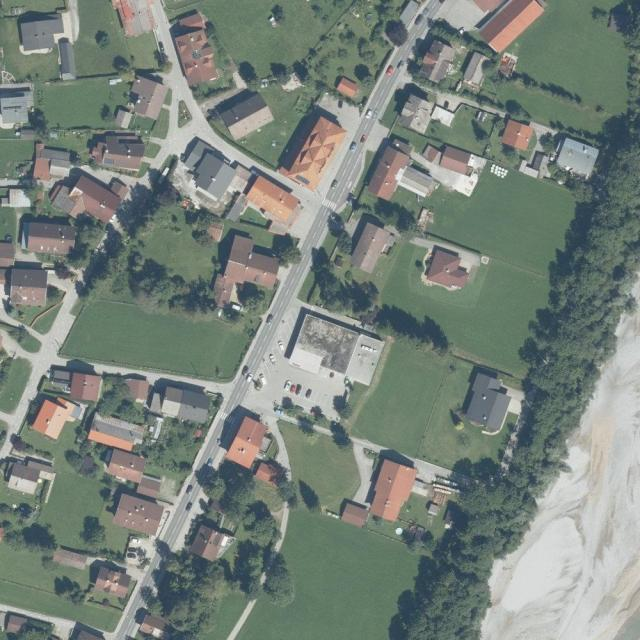building: (273, 102, 351, 193), (365, 138, 446, 217), (451, 367, 524, 440), (169, 134, 243, 204), (236, 173, 306, 240), (292, 314, 360, 374), (86, 125, 162, 178), (169, 11, 221, 87), (477, 0, 546, 55), (365, 458, 418, 525), (224, 236, 282, 290), (32, 391, 88, 446), (219, 91, 275, 142), (67, 174, 123, 224), (348, 221, 397, 277), (4, 451, 58, 501), (87, 412, 147, 456), (224, 416, 271, 470), (16, 8, 66, 55), (112, 493, 164, 537), (425, 249, 474, 295), (344, 333, 385, 386), (123, 75, 169, 122), (188, 522, 235, 567), (553, 137, 601, 180), (416, 39, 458, 86), (21, 220, 76, 255), (396, 93, 437, 135), (112, 0, 156, 38), (33, 143, 73, 183), (0, 82, 34, 128), (105, 448, 147, 485), (177, 389, 213, 426), (5, 462, 43, 497), (94, 565, 132, 598), (500, 119, 534, 151), (119, 373, 153, 405), (69, 373, 104, 404), (461, 52, 491, 88), (209, 273, 236, 309), (438, 146, 471, 175), (56, 36, 76, 81), (159, 386, 185, 419), (341, 500, 370, 528), (254, 460, 284, 487), (52, 547, 87, 569), (229, 164, 254, 194), (136, 474, 162, 498), (335, 76, 360, 100), (429, 104, 455, 127), (420, 144, 444, 166), (6, 615, 28, 636), (114, 108, 133, 130)
greenland: (371, 229, 555, 377), (238, 498, 426, 640), (415, 145, 582, 279), (347, 331, 499, 475), (62, 294, 250, 384), (509, 0, 627, 114), (77, 183, 182, 305), (255, 410, 373, 516), (204, 58, 315, 170), (198, 0, 353, 78), (480, 62, 611, 148), (194, 449, 286, 560), (136, 207, 227, 290), (220, 535, 310, 615), (32, 466, 112, 555), (36, 76, 132, 131), (134, 412, 206, 484), (425, 96, 504, 158), (68, 0, 130, 77), (21, 106, 95, 160), (0, 17, 59, 83), (165, 270, 226, 330), (508, 67, 586, 108), (95, 372, 153, 426), (21, 421, 84, 463), (389, 514, 439, 560), (142, 171, 184, 214), (94, 510, 134, 554), (181, 206, 220, 247), (48, 572, 91, 608), (126, 31, 159, 73), (0, 139, 35, 178), (31, 301, 68, 337), (6, 322, 44, 357), (233, 278, 269, 314), (268, 231, 302, 269), (79, 515, 109, 547), (238, 223, 271, 247), (238, 205, 271, 228), (60, 446, 86, 471), (0, 208, 16, 239), (221, 303, 243, 325), (370, 517, 389, 530)
metalled_road: (239, 139, 374, 377), (102, 0, 235, 180), (107, 550, 172, 640), (159, 480, 203, 552), (109, 579, 157, 640), (196, 415, 232, 465), (248, 165, 295, 196), (223, 377, 251, 415), (353, 106, 379, 145)
